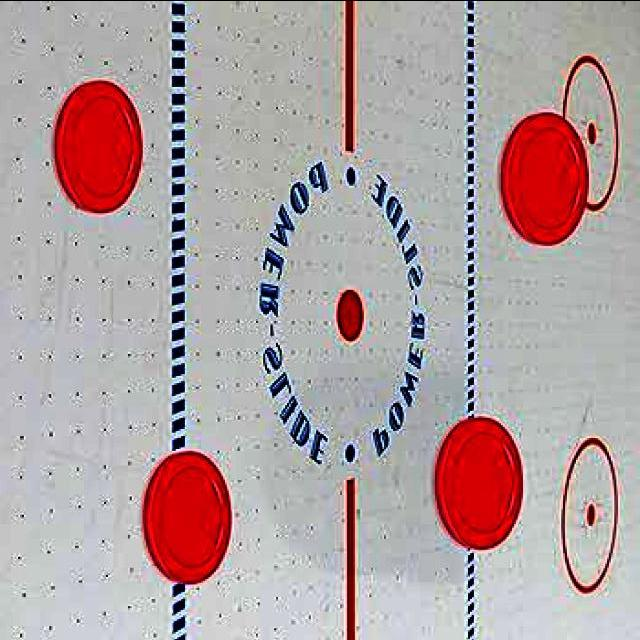chip: (46, 78, 148, 214), (497, 110, 591, 246), (140, 448, 232, 582), (438, 415, 528, 549)
